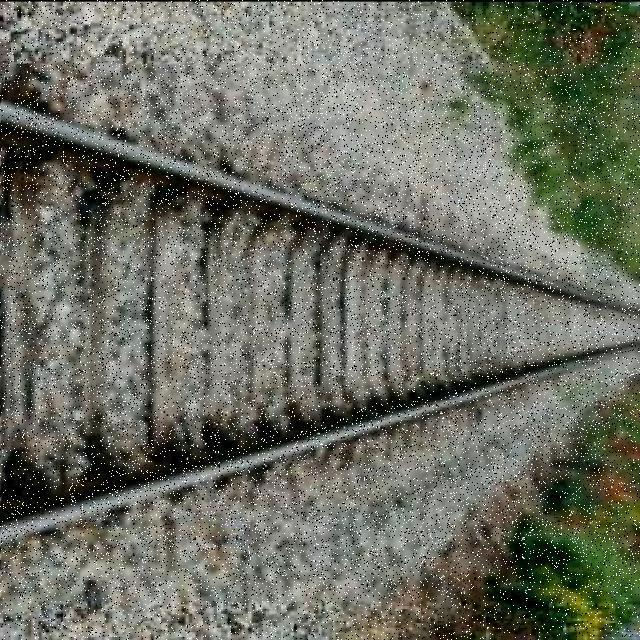rail: (2, 64, 640, 600)
